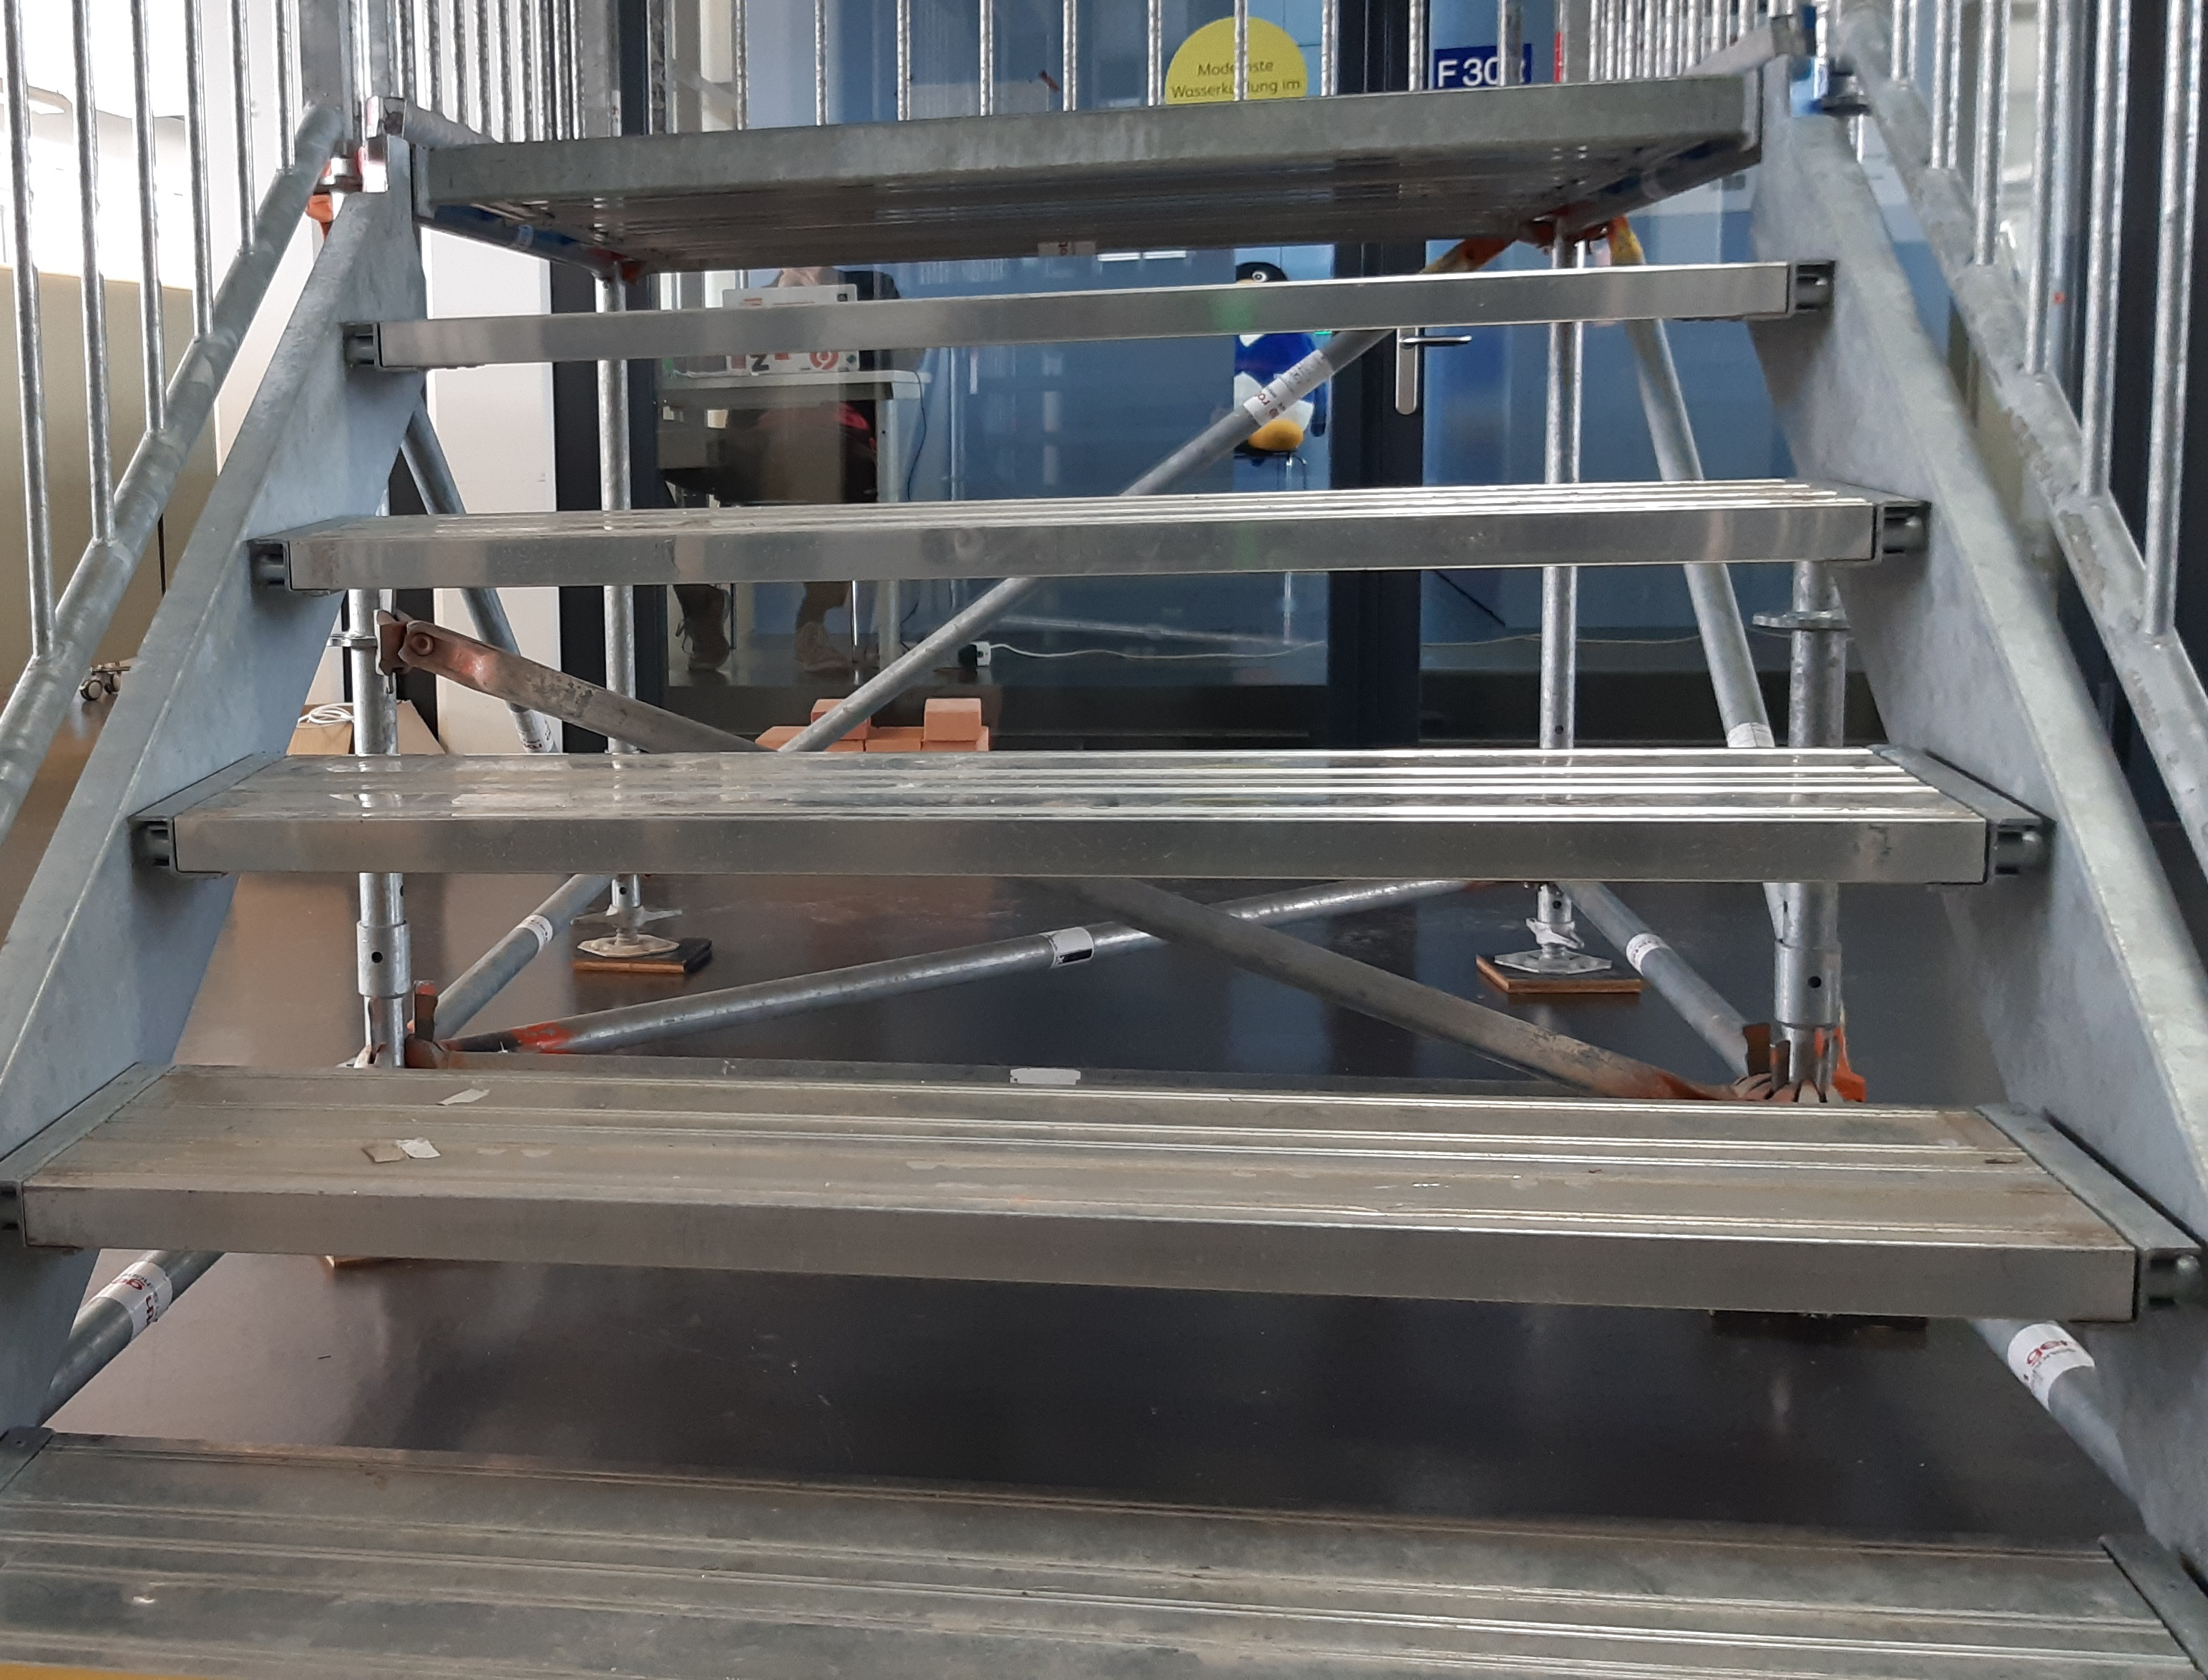edge: (7, 1181, 2197, 1329), (355, 259, 1829, 369), (148, 808, 2051, 888), (261, 501, 1940, 582), (438, 76, 1754, 178)
